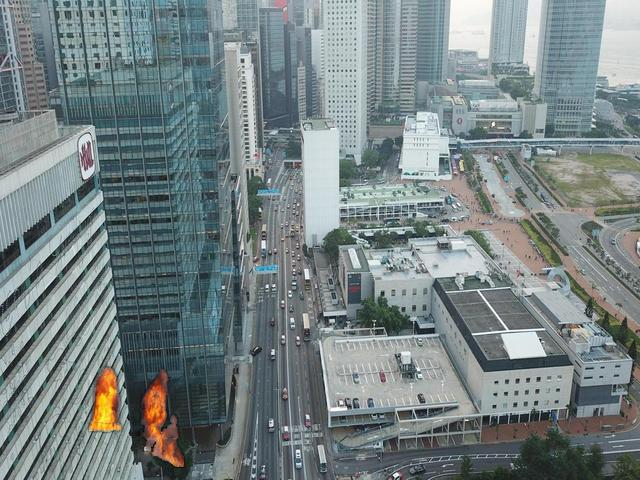fire: (89, 364, 183, 466)
